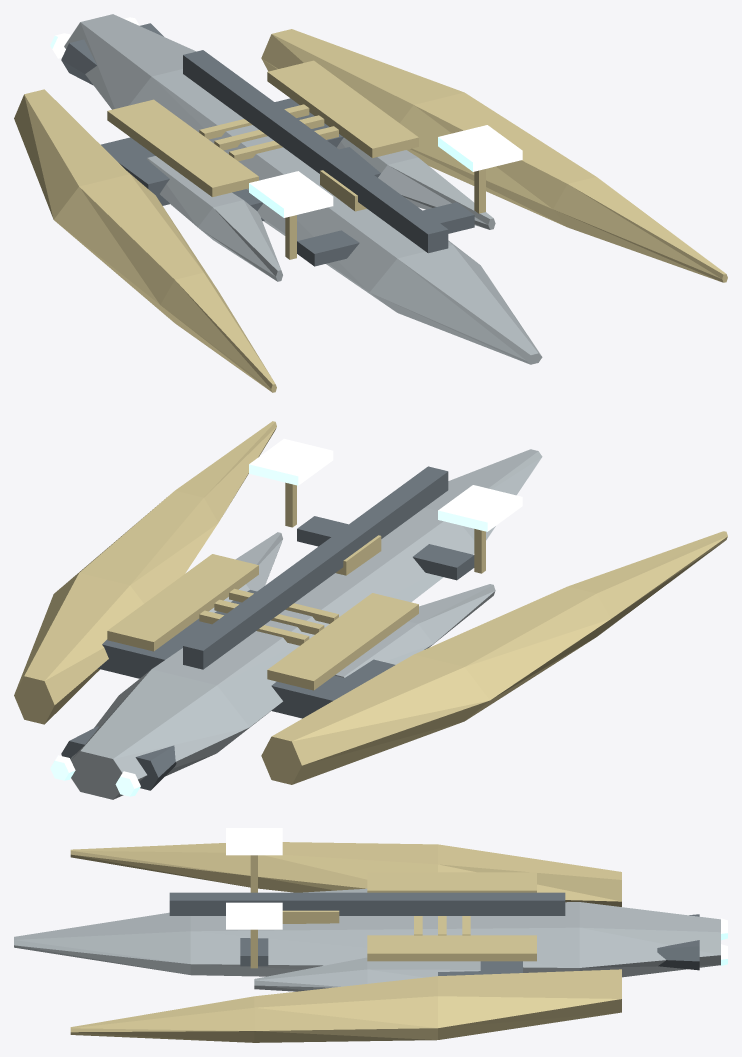
3 views of the same model, one above another, from view 1: azimuth 30°, elevation 25°; view 2: azimuth 150°, elevation 25°; view 3: azimuth 270°, elevation 25° (orthographic). The views are drawn at different scales.
Size of the model in its own units: 5.84 by 1.43 by 9.8.
